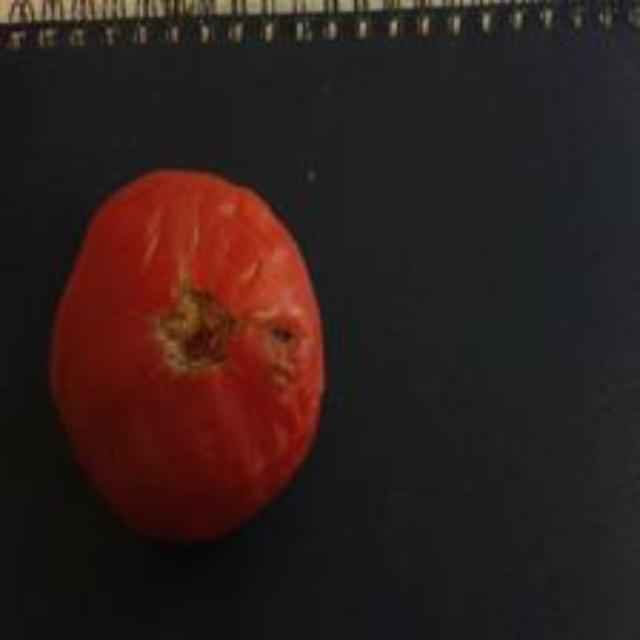defect: (47, 162, 331, 554)
